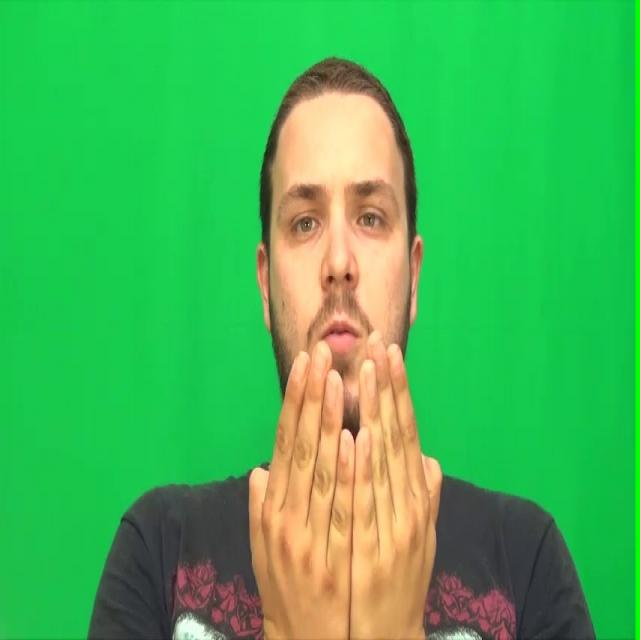Engaged: (273, 101, 403, 415)
